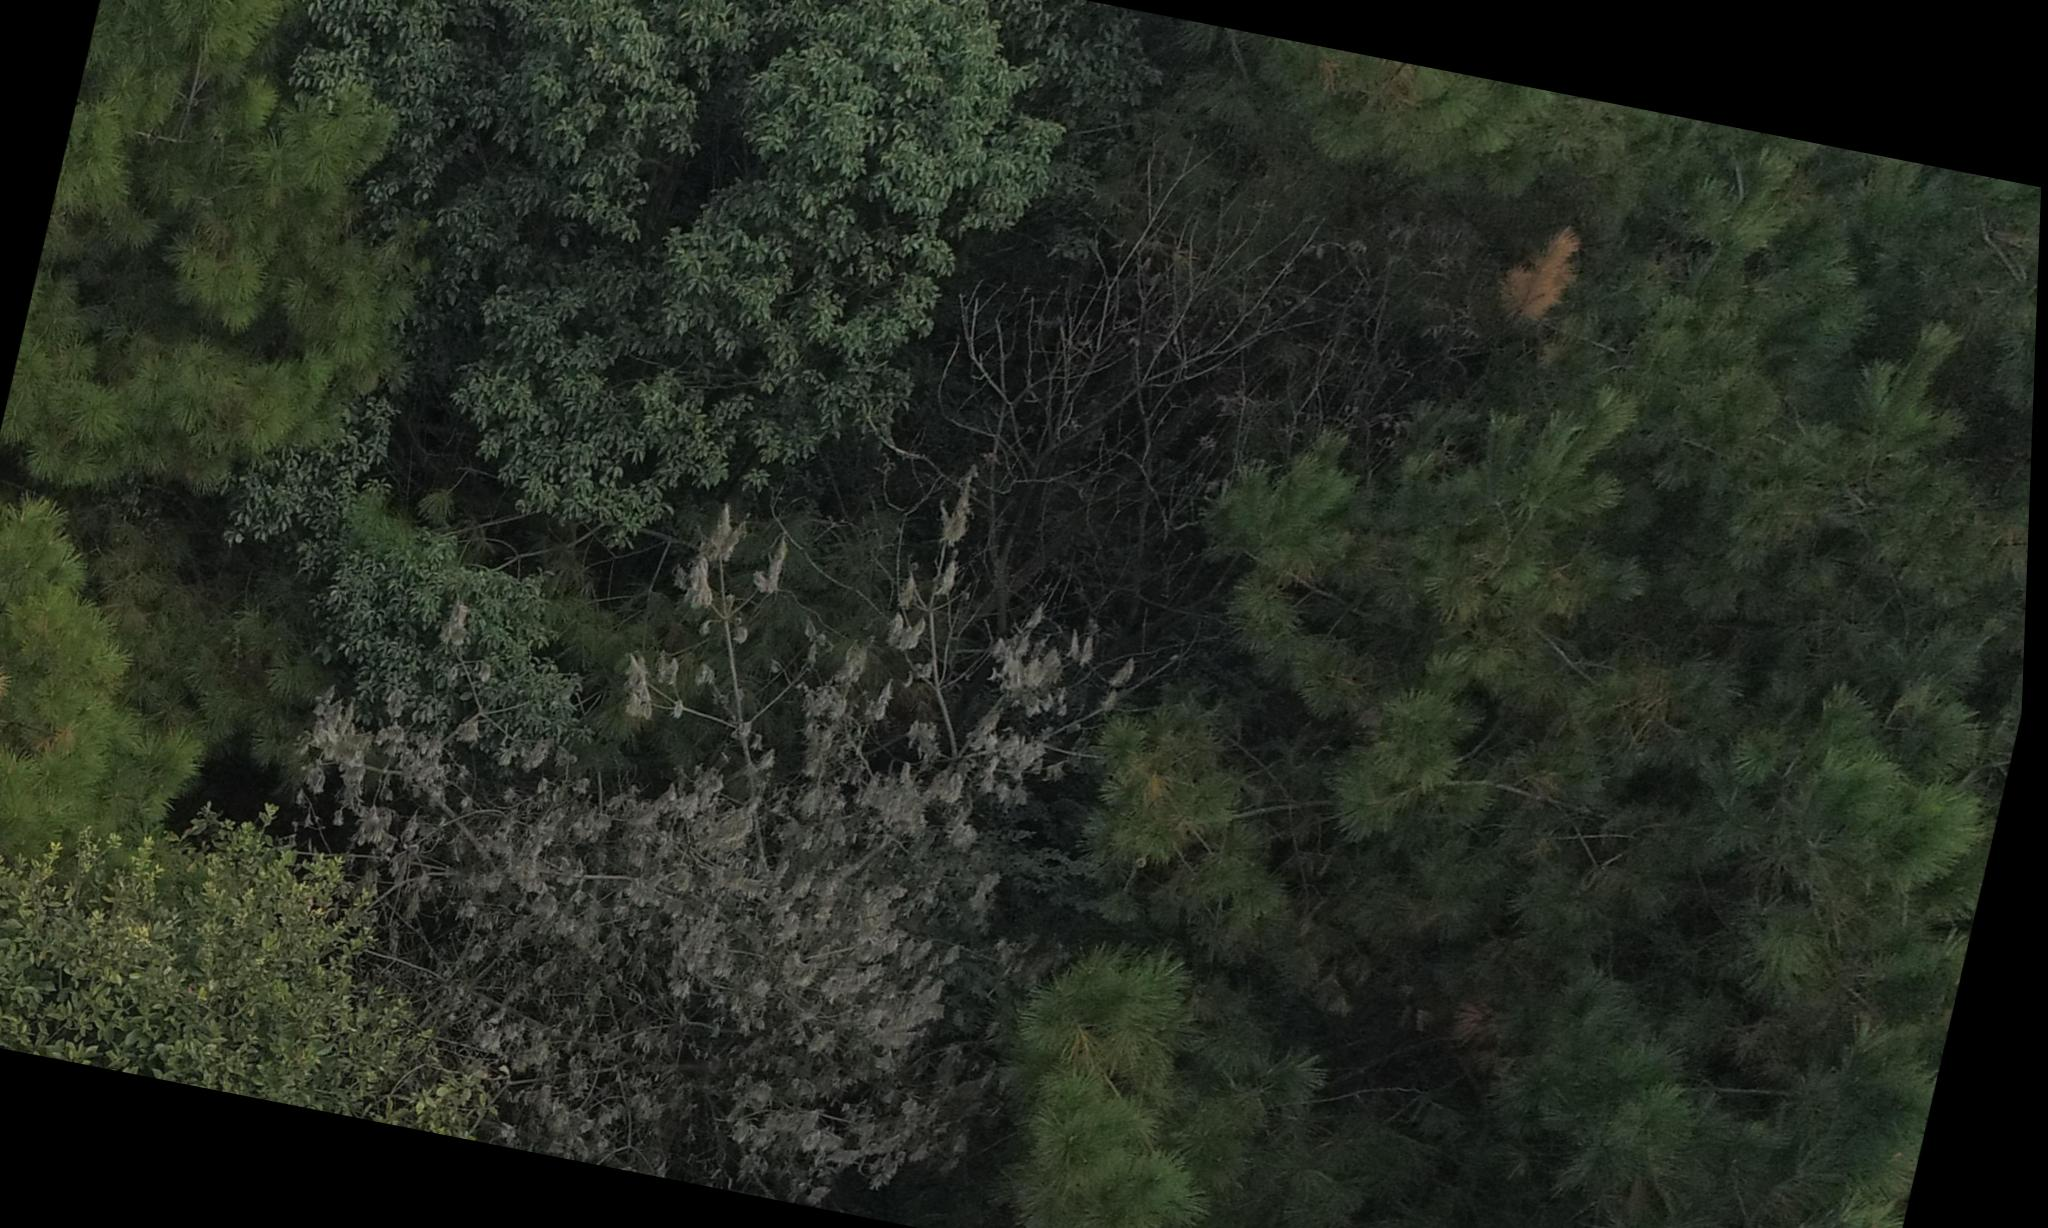heavy: (257, 401, 1140, 1213)
light: (1349, 98, 1867, 588), (0, 531, 262, 934)
